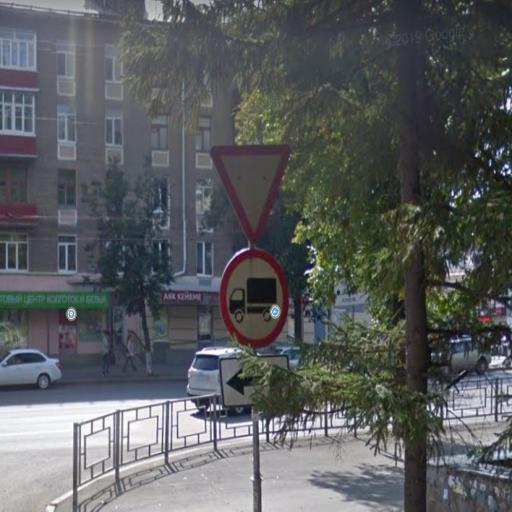traffic_sign: (209, 140, 299, 252), (217, 248, 293, 354)
